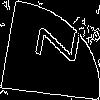Z: (25, 24, 81, 62)
